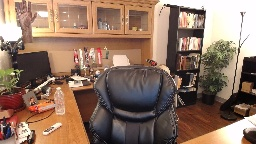Mano_aperta: (11, 0, 40, 28)
